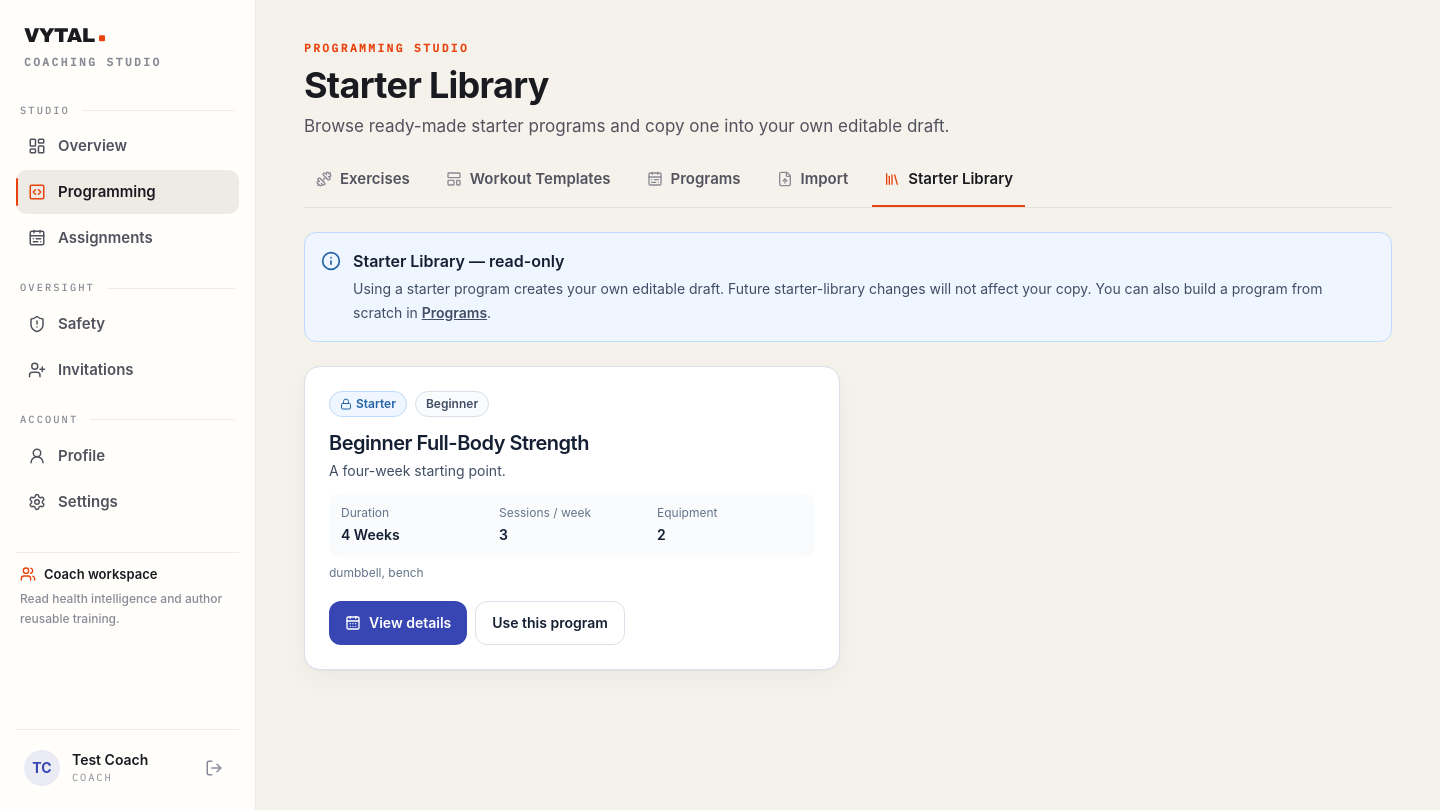
Test: surfaces a clone error without navigating
This screenshot has width=1440, height=810.
Click the button "Use this program": {"x": 550, "y": 623} [475,601,625,645]
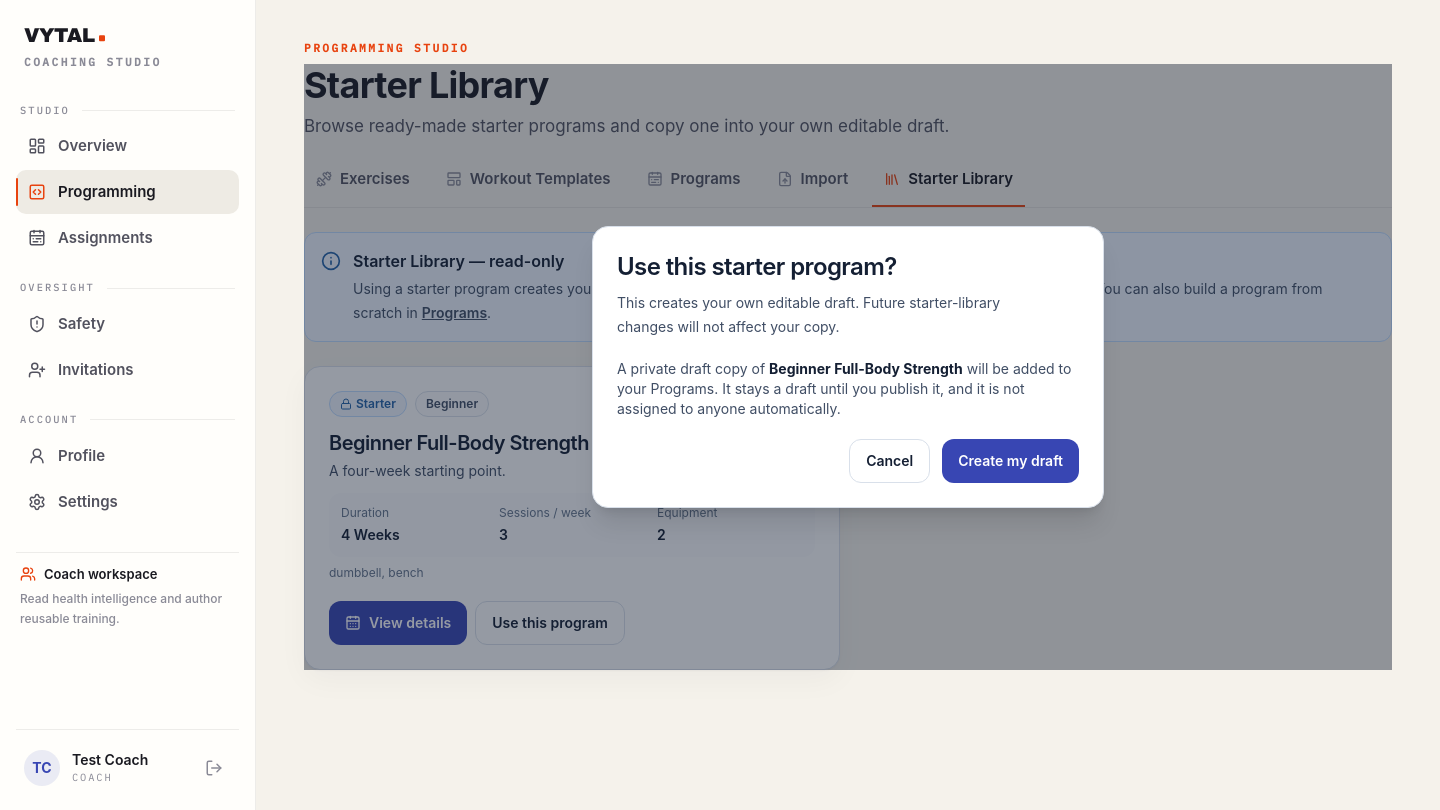
Click the button "Create my draft": {"x": 1011, "y": 461} [942,439,1079,483]
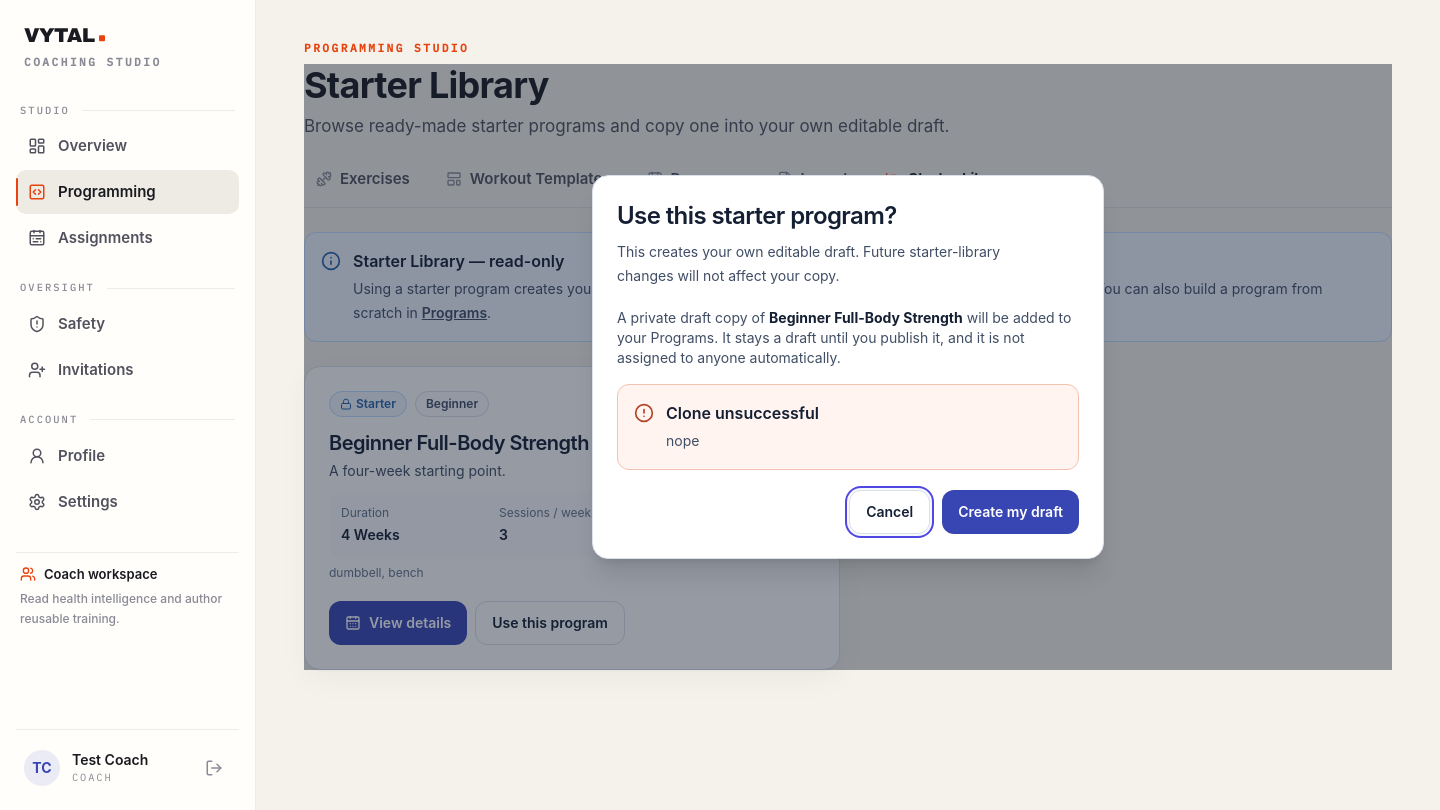
Result: the text "Clone unsuccessful" is shown at [666,403,819,423]
